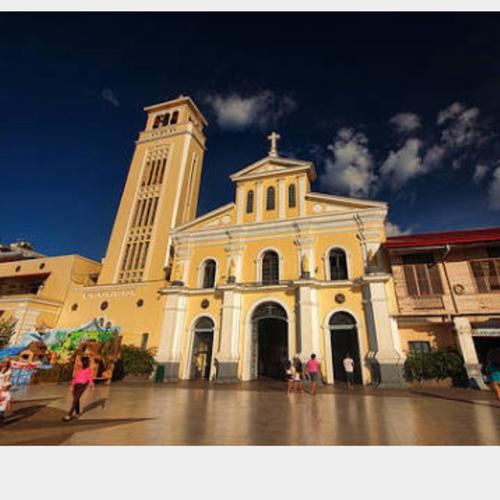Manaoag Church: (99, 92, 406, 394)
